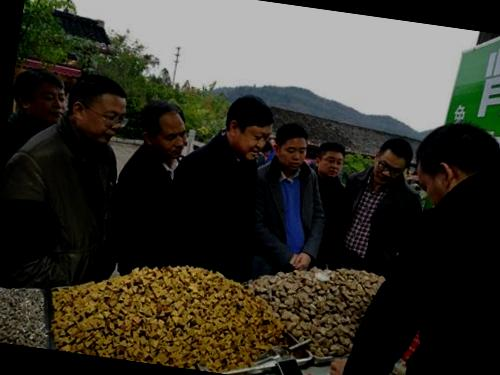no_helmet: (411, 115, 500, 213), (56, 64, 134, 150), (218, 87, 276, 165), (135, 96, 193, 160), (12, 66, 68, 127), (368, 130, 415, 187), (267, 118, 312, 176), (311, 135, 351, 182)
